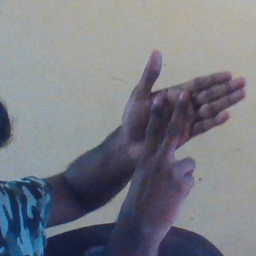N: (112, 46, 249, 198)
